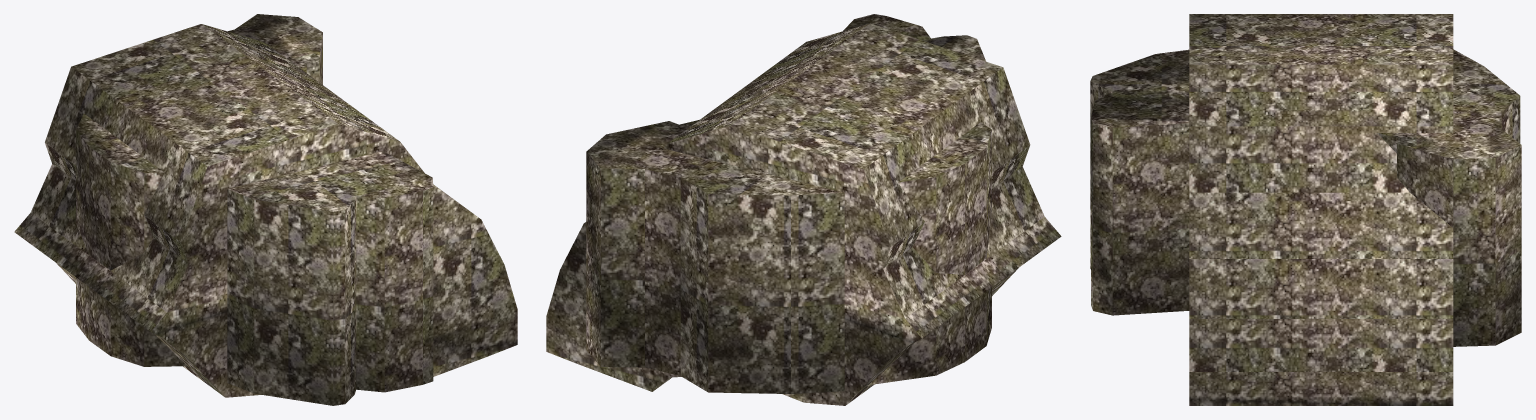
Rendered from rock_4.dae.
3 views of the same model, side by side, from view 1: azimuth 30°, elevation 25°; view 2: azimuth 150°, elevation 25°; view 3: azimuth 270°, elevation 25° (orthographic). The views are drawn at different scales.
Visible parts, largest first — view 1: Model; view 2: Model; view 3: Model.
Boxes of the visible parts, x1=… form: Model: x1=14, y1=14, x2=517, y2=405; Model: x1=546, y1=14, x2=1061, y2=405; Model: x1=1090, y1=14, x2=1521, y2=405.
Bounding box in the file's own units: 2.93 × 3.08 × 2.13.
1 material, 1 textured.
